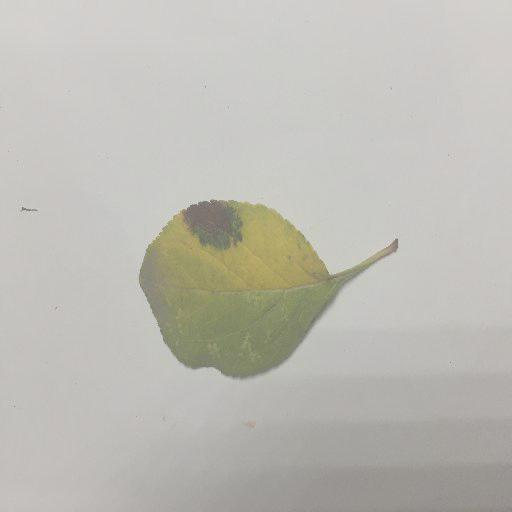Brown_Spot: (175, 206, 253, 259)
